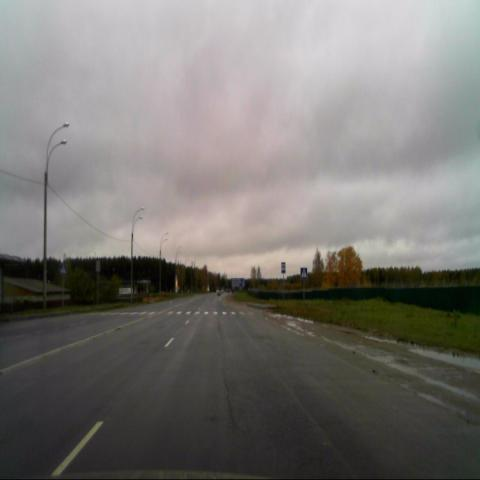5_19_1: (300, 266, 308, 281), (60, 262, 68, 276)
